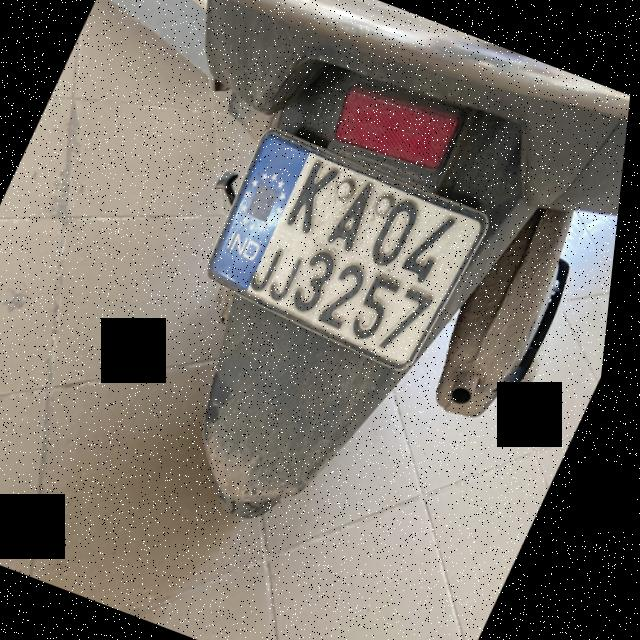0: (368, 184, 436, 274)
3: (289, 242, 350, 324)
4: (397, 192, 472, 290)
5: (348, 266, 417, 358)
7: (380, 279, 447, 364)
A: (323, 170, 395, 258)
J: (251, 240, 296, 294), (272, 252, 313, 306)
K: (282, 152, 353, 241)
